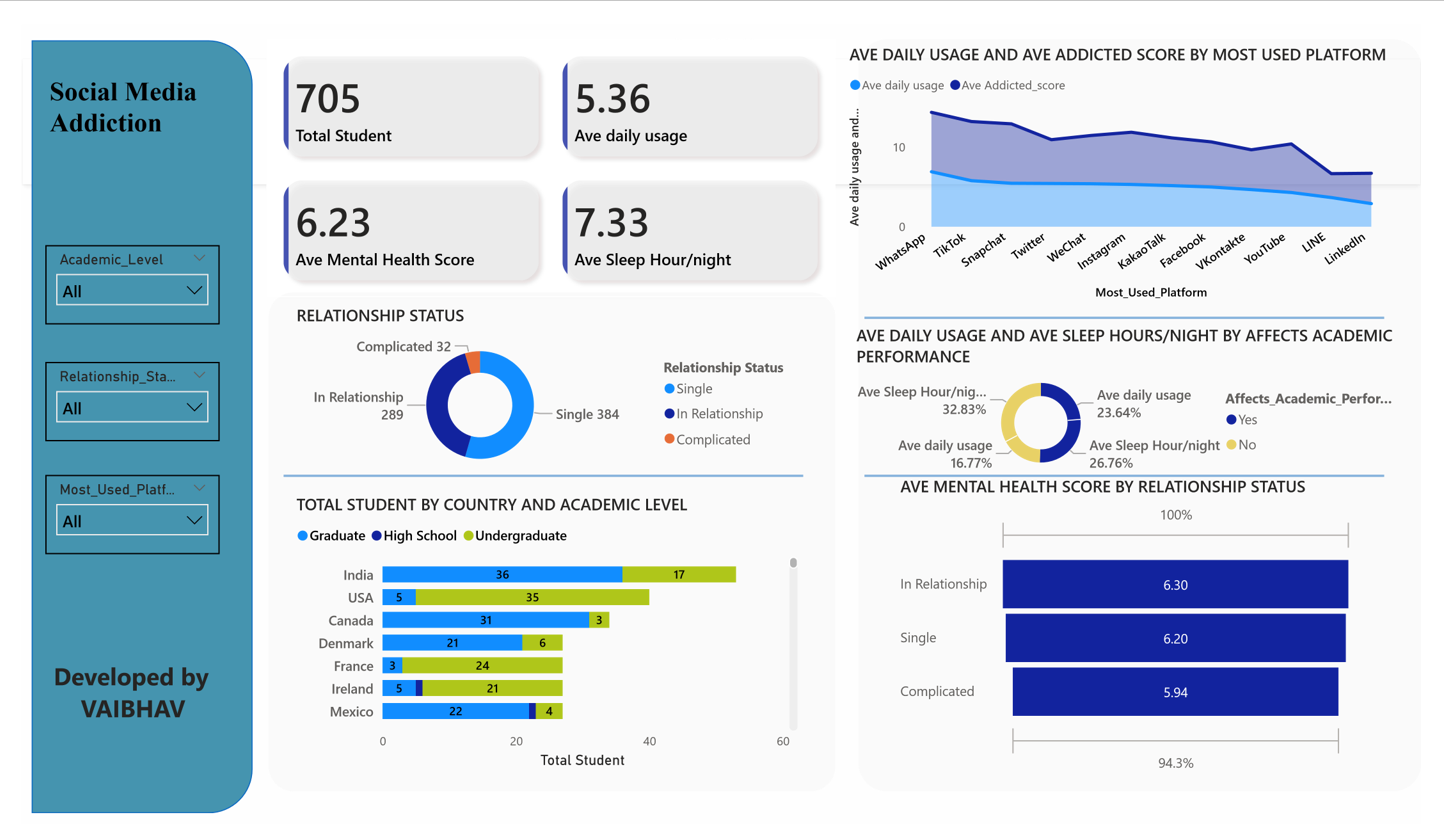

The dashboard page shown, as its layout file describes it:
{"tool":"powerbi","page":{"name":"Page 1","canvas":[1400,800],"ordinal":0},"visuals":[{"type":"cardVisual","fields":{"Data":["Students Social Media Addiction.Total_Student","Students Social Media Addiction.Ave daily usage","Students Social Media Addiction.Ave Mental Health Score","Students Social Media Addiction.Ave Sleep Hour/night"]},"box":[245.5,15.3,568.5,258.2],"z":0},{"type":"shape","box":[10,15.7,221.4,772.9],"z":1000},{"type":"textbox","box":[22.9,47.1,192.9,87.1],"z":2000},{"type":"shape","box":[246.7,268.4,567.2,498.5],"z":3000},{"type":"donutChart","title":" RELATIONSHIP STATUS","fields":{"Category":["Students Social Media Addiction.Relationship_Status"],"Y":["Students Social Media Addiction.Total Student"]},"box":[269.6,279.8,511.3,174.2],"z":4000},{"type":"barChart","title":"TOTAL STUDENT BY COUNTRY AND ACADEMIC LEVEL","fields":{"Category":["Students Social Media Addiction.Country"],"Y":["Students Social Media Addiction.Total Student"],"Series":["Students Social Media Addiction.Academic_Level"]},"box":[269.6,469.3,511.3,279.8],"z":5000},{"type":"shape","box":[836.8,15.3,563.4,751.6],"z":6000},{"type":"shape","box":[262,440,520.2,22.9],"z":7000},{"type":"stackedAreaChart","title":"AVE DAILY USAGE AND AVE ADDICTED SCORE BY  MOST USED PLATFORM","fields":{"Category":["Students Social Media Addiction.Most_Used_Platform"],"Y":["Students Social Media Addiction.Ave daily usage","Students Social Media Addiction.Ave Addicted_score"]},"box":[822.9,19.1,548.1,260.7],"z":8000},{"type":"shape","box":[843.2,282.3,520.2,22.9],"z":9000},{"type":"donutChart","title":"AVE DAILY USAGE AND AVE SLEEP HOURS/NIGHT BY AFFECTS ACADEMIC PERFORMANCE","fields":{"Category":["Students Social Media Addiction.Affects_Academic_Performance"],"Y":["Students Social Media Addiction.Ave daily usage","Students Social Media Addiction.Ave Sleep Hour/night"]},"box":[830.5,300.1,549.4,153.9],"z":10000},{"type":"shape","box":[843.2,440,520.2,22.9],"z":11000},{"type":"funnel","title":"AVE MENTAL HEALTH SCORE BY RELATIONSHIP STATUS","fields":{"Category":["Students Social Media Addiction.Relationship_Status"],"Y":["Students Social Media Addiction.Ave Mental Health Score"]},"box":[873.7,451.5,462.9,302.7],"z":12000},{"type":"slicer","fields":{"Values":["Students Social Media Addiction.Academic_Level"]},"box":[24.2,221.3,174.2,78.9],"z":13000},{"type":"slicer","fields":{"Values":["Students Social Media Addiction.Relationship_Status"]},"box":[24.2,338.3,174.2,78.9],"z":14000},{"type":"slicer","fields":{"Values":["Students Social Media Addiction.Most_Used_Platform"]},"box":[24.2,451.5,174.2,78.9],"z":15000},{"type":"textbox","box":[26.7,629.5,169.2,83.9],"z":15001}]}

Visuals, with their boxes in screenshot pixels (x1, y1, x2, y2), scaled from the page's 1400x800 canvas onto the 1444x840 screenshot:
cardVisual - Students Social Media Addiction.Total_Student x Students Social Media Addiction.Ave daily usage: 253 16 840 287
shape: 10 16 239 828
textbox: 24 49 223 141
shape: 254 282 839 805
" RELATIONSHIP STATUS" donutChart: 278 294 805 477
"TOTAL STUDENT BY COUNTRY AND ACADEMIC LEVEL" barChart: 278 493 805 787
shape: 863 16 1443 805
shape: 270 462 807 486
"AVE DAILY USAGE AND AVE ADDICTED SCORE BY  MOST USED PLATFORM" stackedAreaChart: 849 20 1414 294
shape: 870 296 1406 320
"AVE DAILY USAGE AND AVE SLEEP HOURS/NIGHT BY AFFECTS ACADEMIC PERFORMANCE" donutChart: 857 315 1423 477
shape: 870 462 1406 486
"AVE MENTAL HEALTH SCORE BY RELATIONSHIP STATUS" funnel: 901 474 1379 792
slicer - Students Social Media Addiction.Academic_Level: 25 232 205 315
slicer - Students Social Media Addiction.Relationship_Status: 25 355 205 438
slicer - Students Social Media Addiction.Most_Used_Platform: 25 474 205 557
textbox: 28 661 202 749
